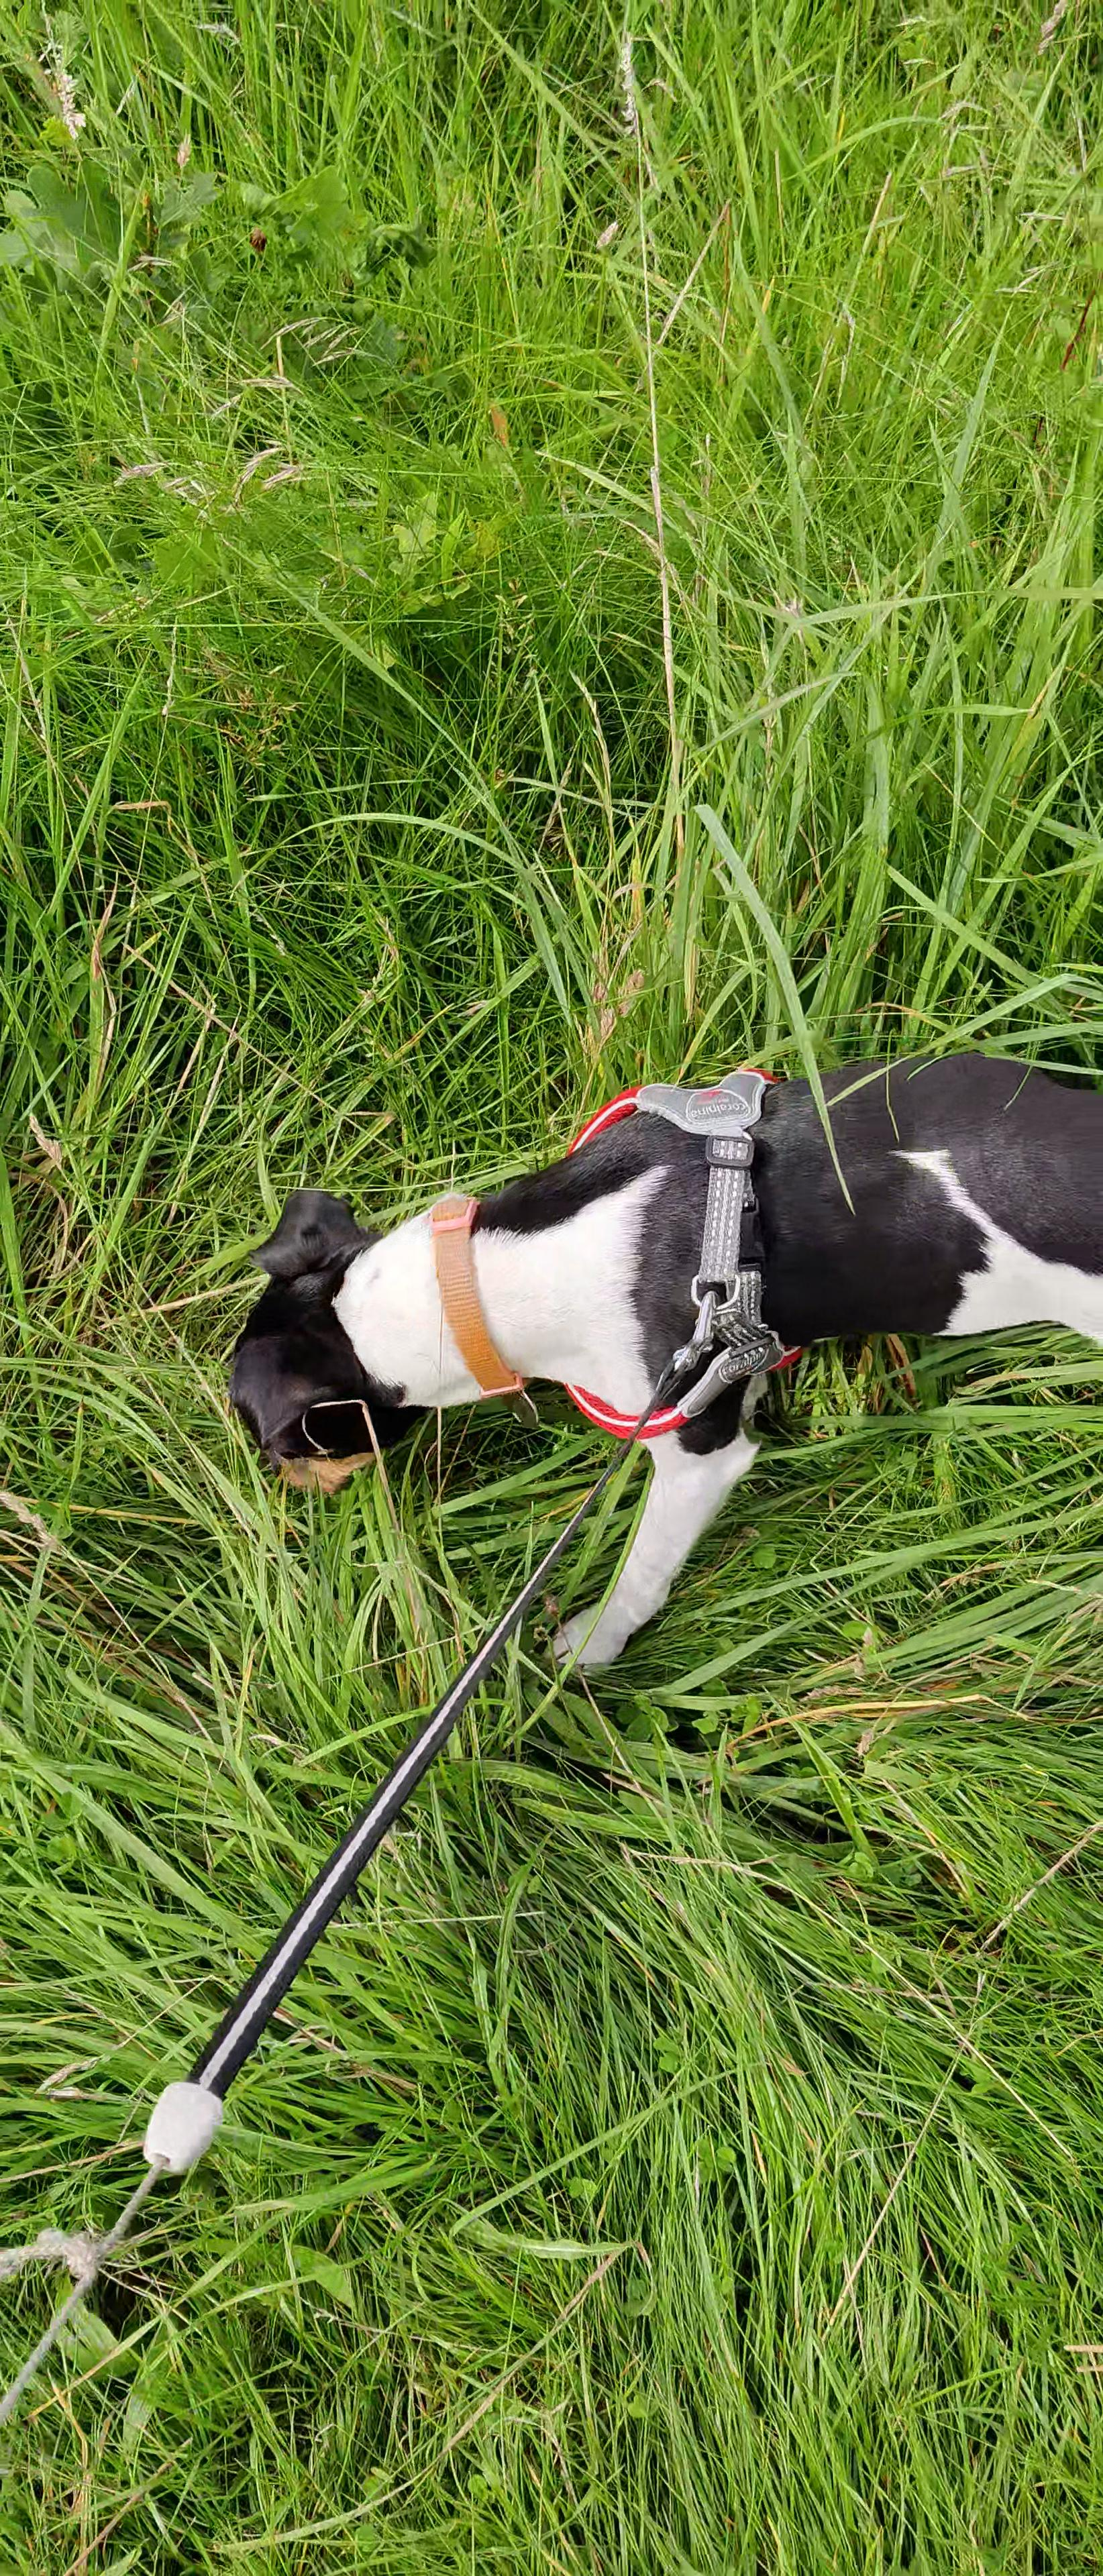Dog: (210, 1033, 1103, 1689)
